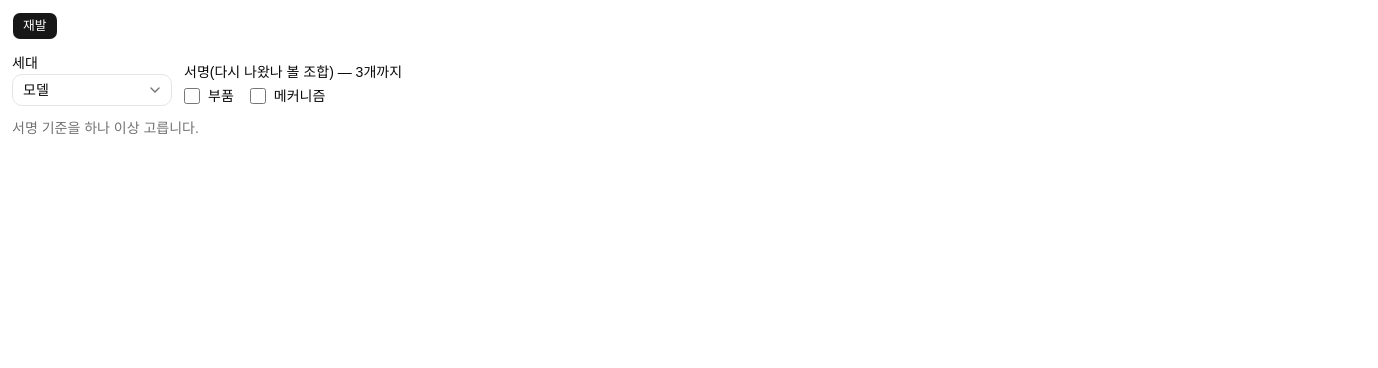
Test case: 분석 탭 › 재발은 서명을 골라야 묻고, 세대 쌍마다 다시 나온 것과 재발률을 적는다
Expected: the text "서명 기준을 하나 이상 고릅니다." is shown, [12,120,199,136]
Click the checkbox labelled "부품".
click(192, 96)  # box [184,88,200,104]
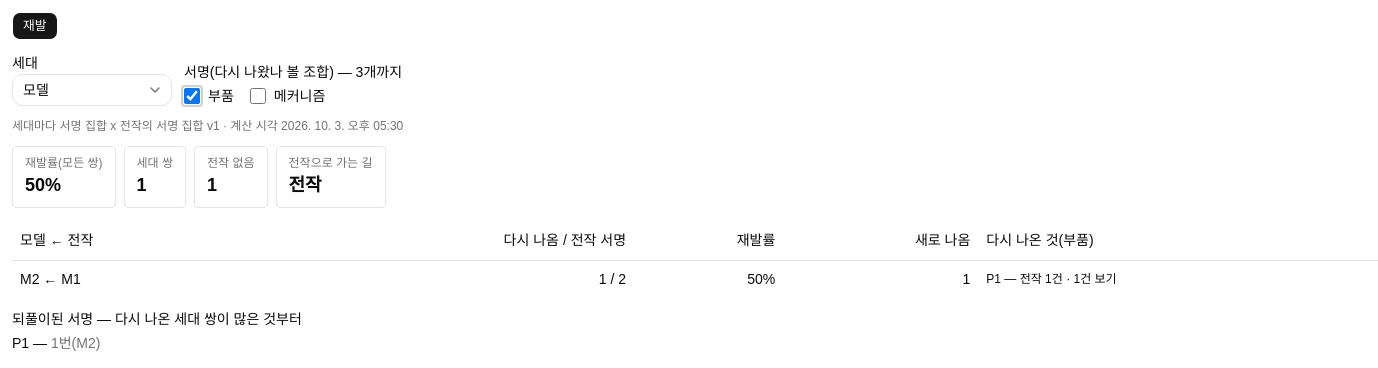
Expected: the text "M2 ← M1" is shown, [12,260,256,296]
Expected: the text "1 / 2" is shown, [256,260,634,296]
